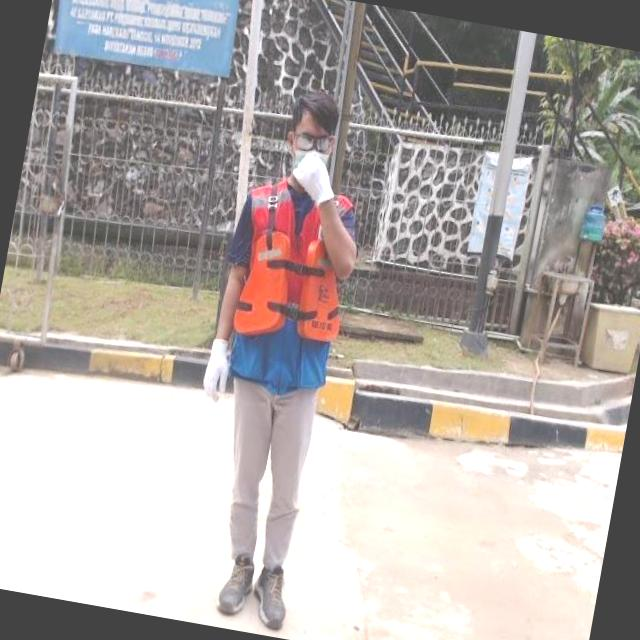vest: (213, 170, 366, 398)
